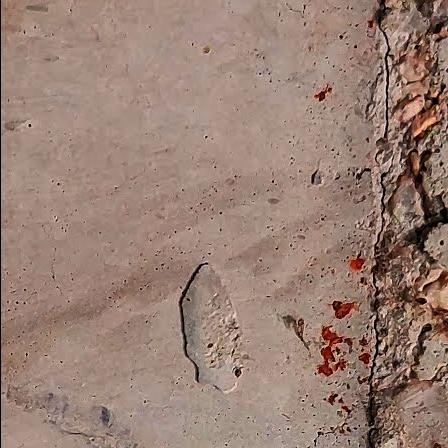crack: (358, 148, 395, 447), (367, 0, 394, 169), (303, 391, 366, 448)
spalling: (380, 3, 448, 404)
